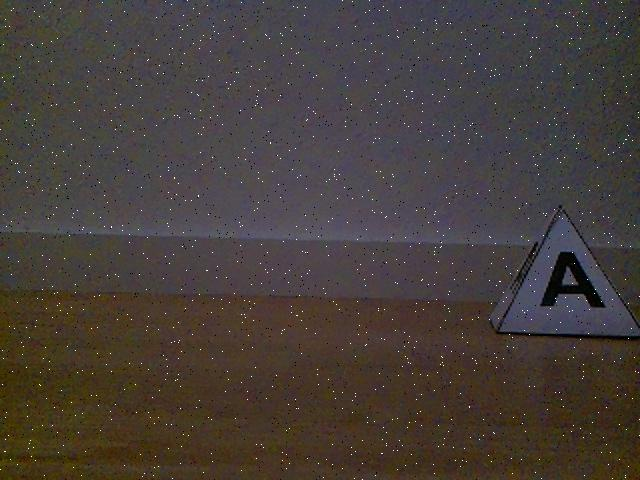A: (486, 204, 640, 340)
